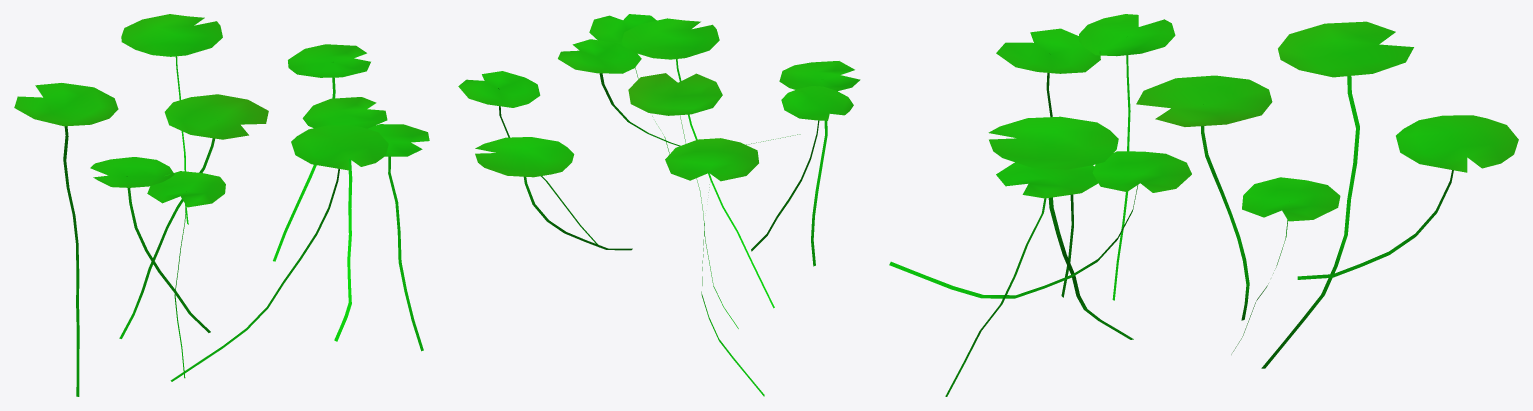
The model's file is Carolana Water Lily_LOD1_Var1_uc2jdibia.fbx.
3 renders of one model, left to right at view 1: azimuth 30°, elevation 25°; view 2: azimuth 150°, elevation 25°; view 3: azimuth 270°, elevation 25°, orthographic. The views are drawn at different scales.
Visible parts, largest first — view 1: merge1; view 2: merge1; view 3: merge1.
Part boxes in pixels (x1=…): merge1: x1=14, y1=14, x2=429, y2=396; merge1: x1=458, y1=14, x2=860, y2=396; merge1: x1=889, y1=14, x2=1518, y2=396.
Size of the model in its own units: 89.1 by 68.8 by 115.
